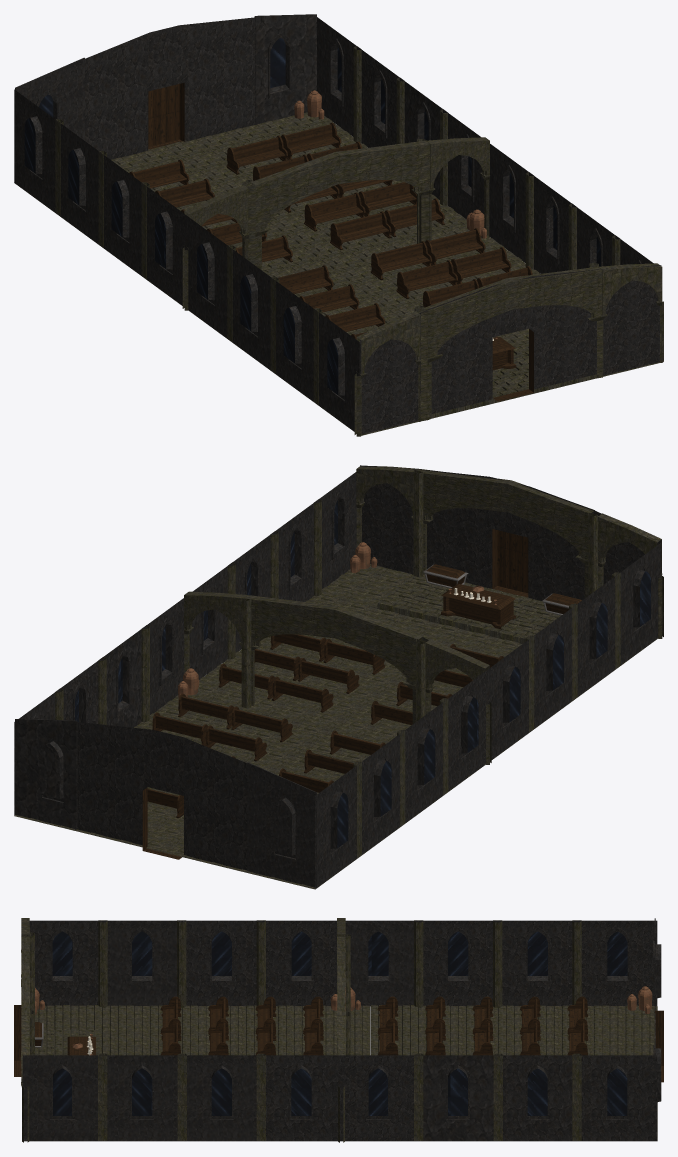
File: Iglesia.fbx
3 renders of one model, top to bottom at view 1: azimuth 30°, elevation 25°; view 2: azimuth 150°, elevation 25°; view 3: azimuth 270°, elevation 25°, orthographic. The views are drawn at different scales.
Parts seen in each view (by area): view 1: Piso.001, Entrada.001, Entrada.002, Silla.002, Silla.001, PilarCurvo.005, PilarCurvo.002, Ventanal.019, Ventanal.010, Ventanal, Ventanal.007, Ventanal.017 (+21 smaller); view 2: Piso.001, Entrada.002, Entrada.001, PilarCurvo.005, Silla.001, PilarCurvo.002, Ventanal.018, Silla.002, Ventanal.019, Ventanal.010, Ventanal, Ventanal.002 (+28 smaller); view 3: Piso.001, Ventanal.017, Ventanal.004, Ventanal.014, Ventanal.007, Ventanal.005, Silla.002, Ventanal.015, Ventanal.016, Ventanal.010, Ventanal.006, Ventanal.001 (+46 smaller).
Part boxes in pixels (box(x1,y1,x2,y2)): Piso.001: box(18, 112, 660, 435); Entrada.001: box(359, 265, 661, 434); Entrada.002: box(85, 17, 254, 159); Silla.002: box(129, 122, 444, 262); Silla.001: box(278, 228, 532, 339); PilarCurvo.005: box(245, 140, 431, 270); PilarCurvo.002: box(418, 266, 603, 420); Ventanal.019: box(254, 14, 316, 124); Ventanal.010: box(14, 89, 56, 211); Ventanal: box(186, 215, 228, 337); Ventanal.007: box(489, 144, 531, 262); Ventanal.017: box(317, 17, 358, 136); Piso.001: box(14, 564, 658, 889); Entrada.002: box(77, 722, 247, 870); Entrada.001: box(360, 465, 661, 600); PilarCurvo.005: box(244, 595, 428, 723); Silla.001: box(218, 634, 503, 724); PilarCurvo.002: box(418, 469, 600, 598); Ventanal.018: box(247, 762, 316, 888); Silla.002: box(147, 693, 385, 818); Ventanal.019: box(15, 719, 77, 829); Ventanal.010: box(315, 764, 358, 888); Ventanal: box(487, 638, 530, 759); Ventanal.002: box(575, 574, 617, 697); Piso.001: box(35, 1005, 657, 1140); Ventanal.017: box(577, 1055, 657, 1141); Ventanal.004: box(22, 1055, 101, 1141); Ventanal.014: box(338, 1055, 417, 1141); Ventanal.007: box(262, 1055, 338, 1141); Ventanal.005: box(102, 1055, 181, 1141); Silla.002: box(377, 996, 588, 1055); Ventanal.015: box(418, 1055, 497, 1141); Ventanal.016: box(498, 1055, 577, 1141); Ventanal.010: box(577, 920, 657, 1006); Ventanal.006: box(182, 1055, 261, 1141); Ventanal.001: box(182, 920, 261, 1006).
Bounding box in the file's own units: 2076 × 754 × 4074.
8 materials, 8 textured.
